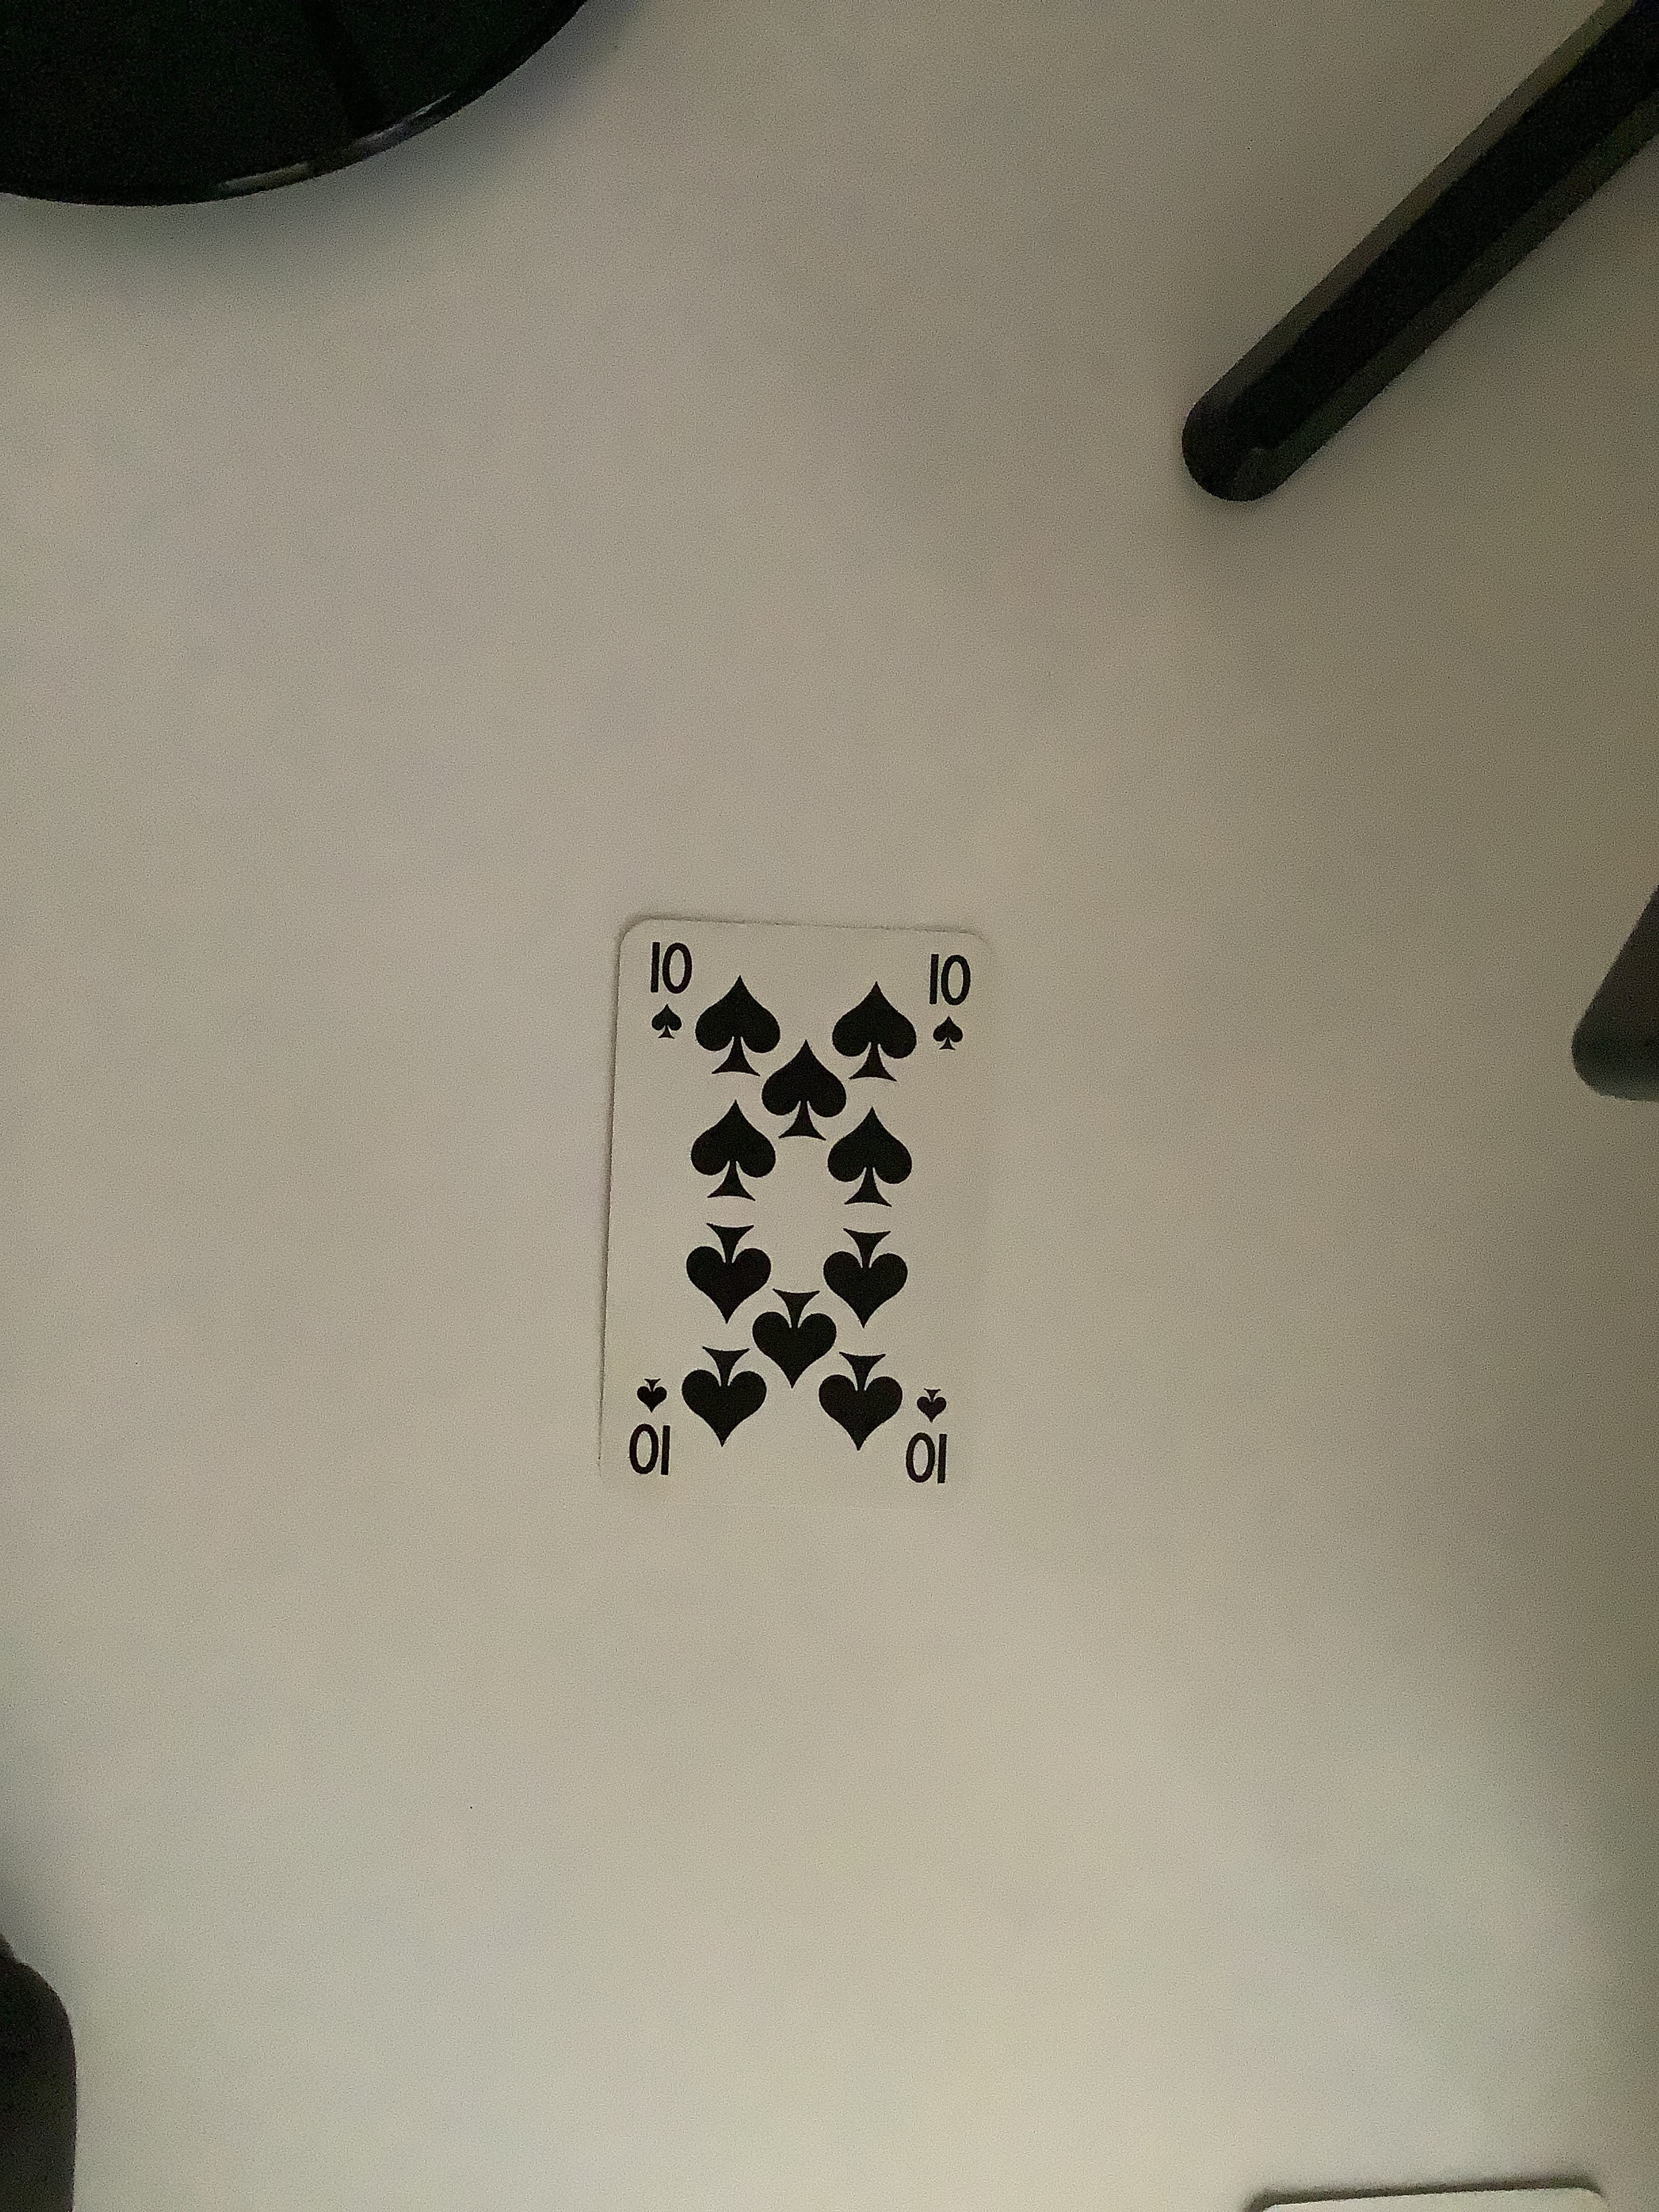♠ 10: (596, 892, 1042, 1545)
